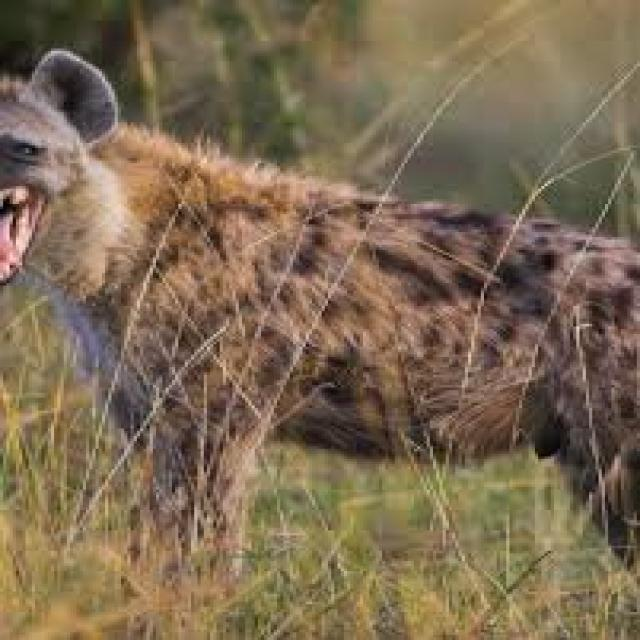Hyena: (3, 54, 640, 640)
